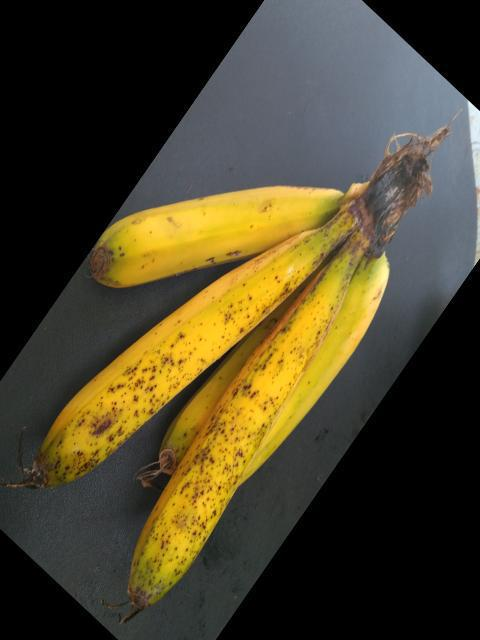ripe: (128, 278, 348, 623), (15, 240, 303, 491)
